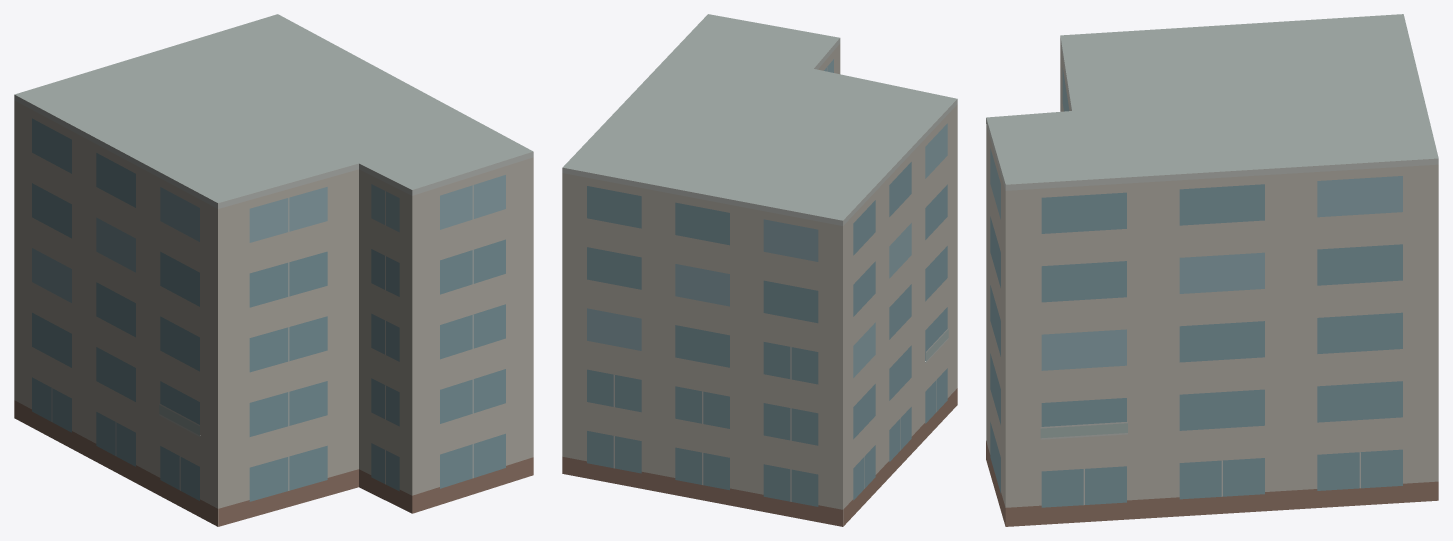
Rendered from survey-upis-32584252.glb.
3 renders of one model, left to right at view 1: azimuth 30°, elevation 25°; view 2: azimuth 150°, elevation 25°; view 3: azimuth 270°, elevation 25°, orthographic. The views are drawn at different scales.
Visible parts, largest first — view 1: survey-upis-32584252.tmp; view 2: survey-upis-32584252.tmp; view 3: survey-upis-32584252.tmp.
Part boxes in pixels (x1,y1,x2,y2): survey-upis-32584252.tmp: [14, 14, 533, 526]; survey-upis-32584252.tmp: [562, 14, 957, 526]; survey-upis-32584252.tmp: [986, 14, 1438, 526].
Size of the model in its own units: 14.67 by 13.7 by 16.44.
